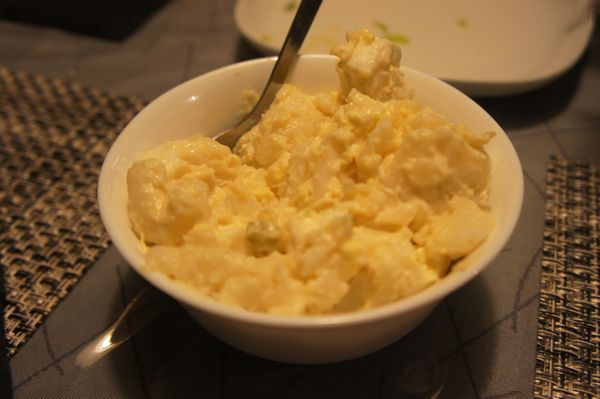salad: (212, 1, 322, 148)
sushi: (97, 52, 512, 365)
